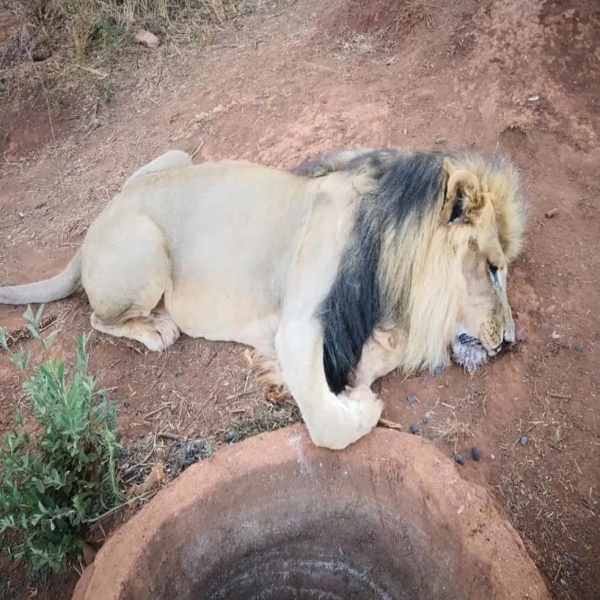Lion: (7, 145, 531, 448)
